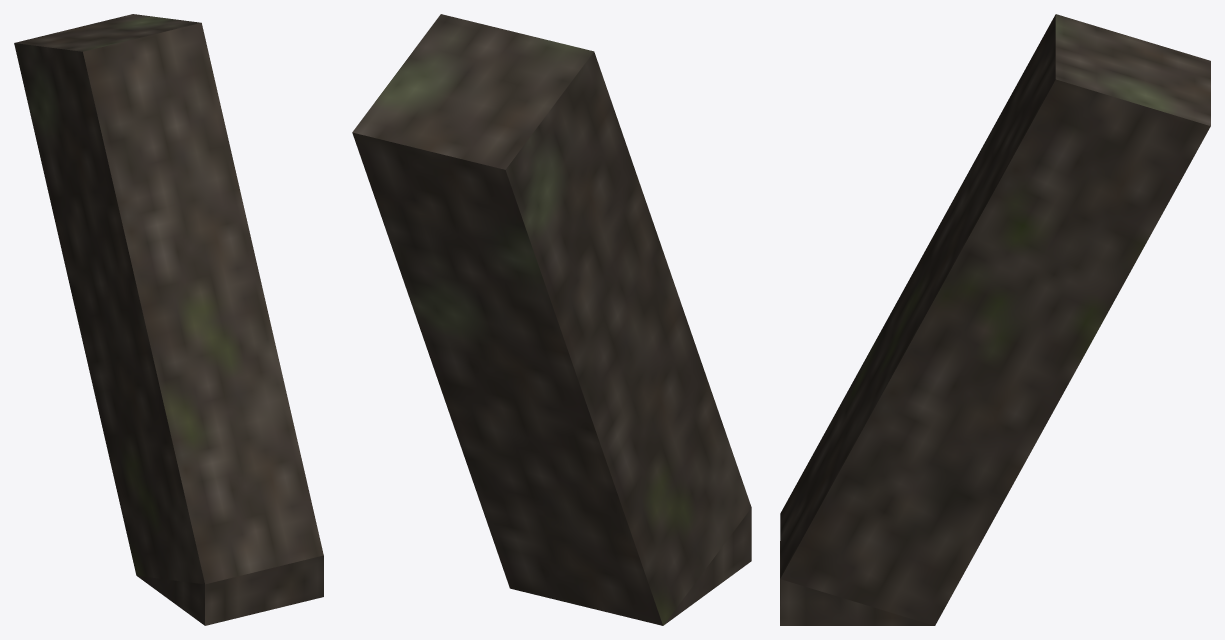
The model's file is spruce_branch_22.5_straight.obj.
3 views of the same model, side by side, from view 1: azimuth 30°, elevation 25°; view 2: azimuth 150°, elevation 25°; view 3: azimuth 270°, elevation 25° (orthographic). The views are drawn at different scales.
Parts seen in each view (by area): view 1: cube; view 2: cube; view 3: cube.
Boxes of the visible parts, bbox=[...] form: cube: bbox=[14, 14, 323, 625]; cube: bbox=[352, 14, 751, 625]; cube: bbox=[780, 14, 1210, 625].
Size of the model in its own units: 0.5615 by 2.19 by 1.56.
